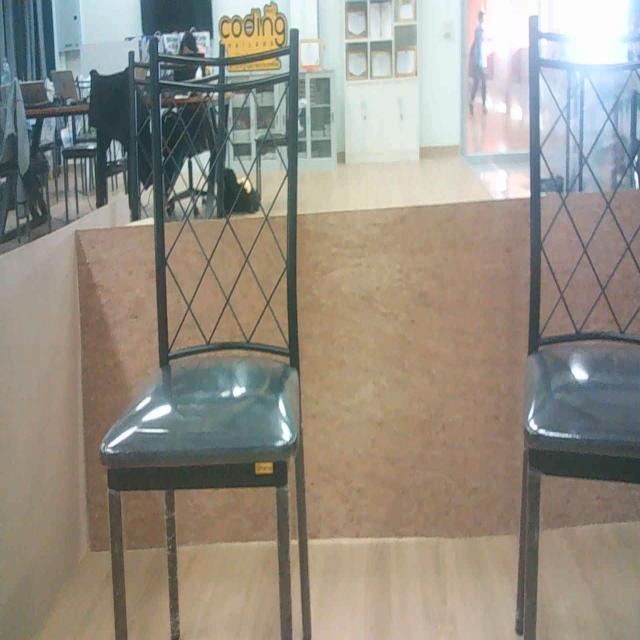emtpy: (118, 34, 304, 640), (510, 0, 640, 640)
